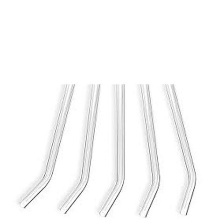drinking_straw: (11, 84, 81, 213), (52, 84, 105, 217), (160, 83, 203, 221), (93, 84, 132, 221), (132, 84, 163, 221)
